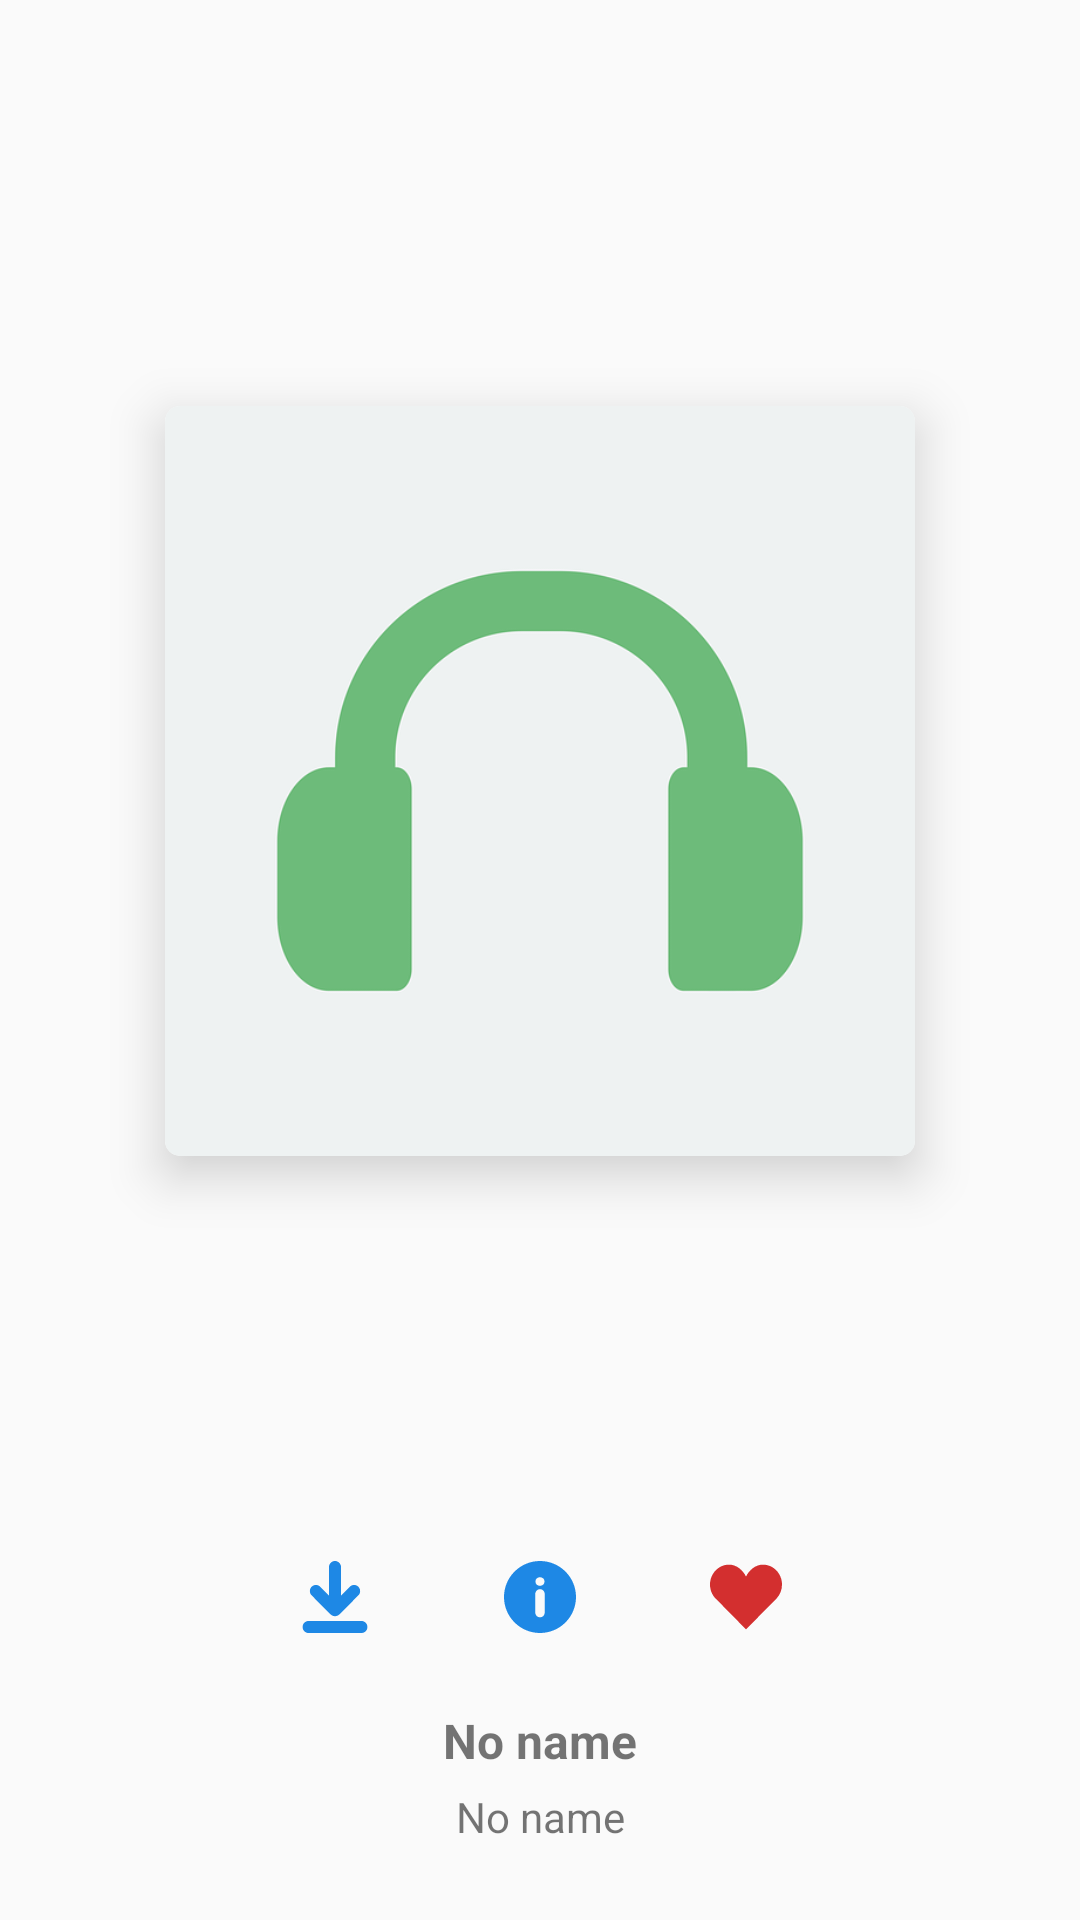

Icons on this 1080x1920 Android screen, each with its box as bbox=(x1, y1, x2, y2):
download: bbox=(302, 1561, 368, 1633)
favorite: bbox=(710, 1564, 782, 1629)
info: bbox=(504, 1561, 576, 1633)
